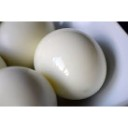begg: (37, 29, 105, 95)
